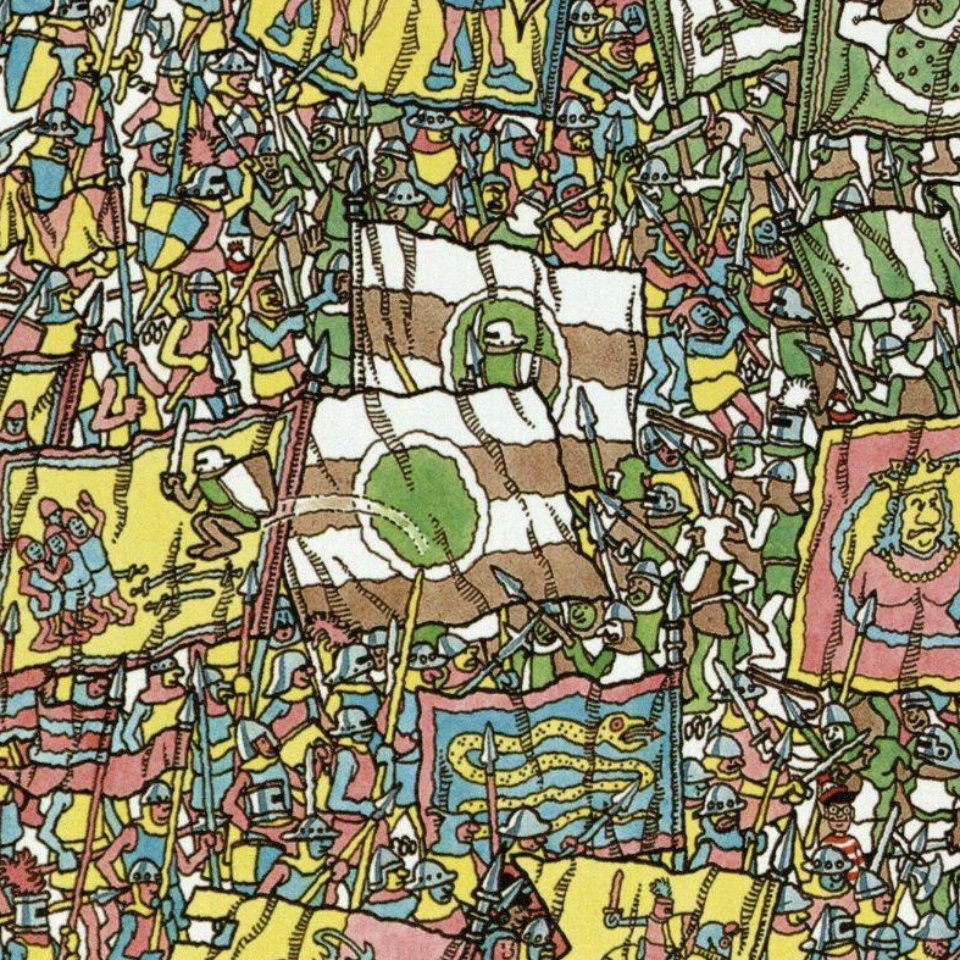waldo: (816, 773, 858, 840)
